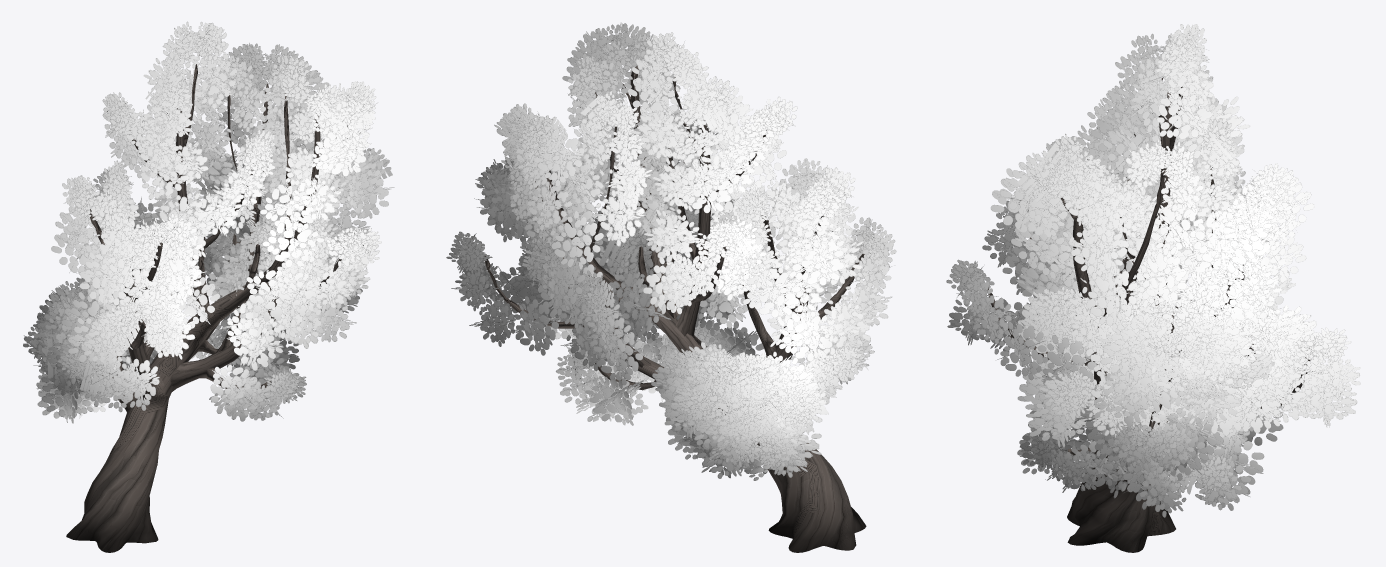
Rendered from TwistedTree_1.glb.
3 views of the same model, side by side, from view 1: azimuth 30°, elevation 25°; view 2: azimuth 150°, elevation 25°; view 3: azimuth 270°, elevation 25° (orthographic). The views are drawn at different scales.
Parts seen in each view (by area): view 1: TwistedTree_1; view 2: TwistedTree_1; view 3: TwistedTree_1.
Part boxes in pixels (box(x1,y1,x2,y2)): TwistedTree_1: box(23, 21, 394, 552); TwistedTree_1: box(446, 22, 896, 552); TwistedTree_1: box(946, 24, 1360, 552).
Bounding box in the file's own units: 13.52 × 16.73 × 11.55.
2 materials, 2 textured.
